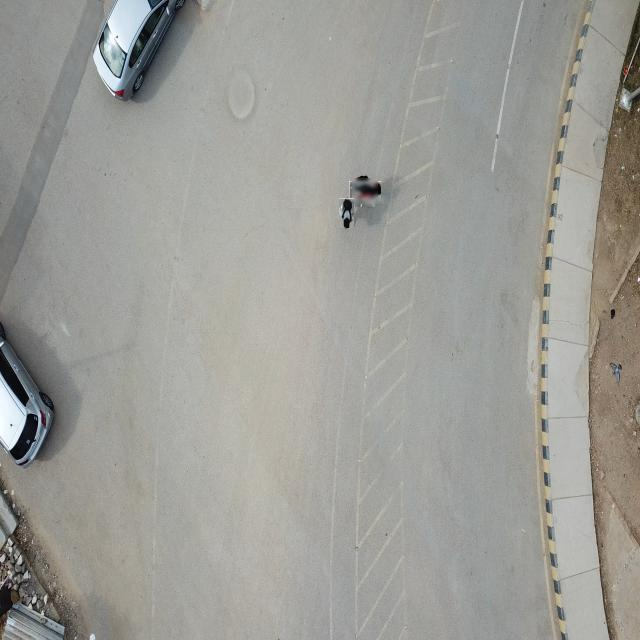Manusia: (352, 178, 379, 205), (339, 198, 355, 229)
